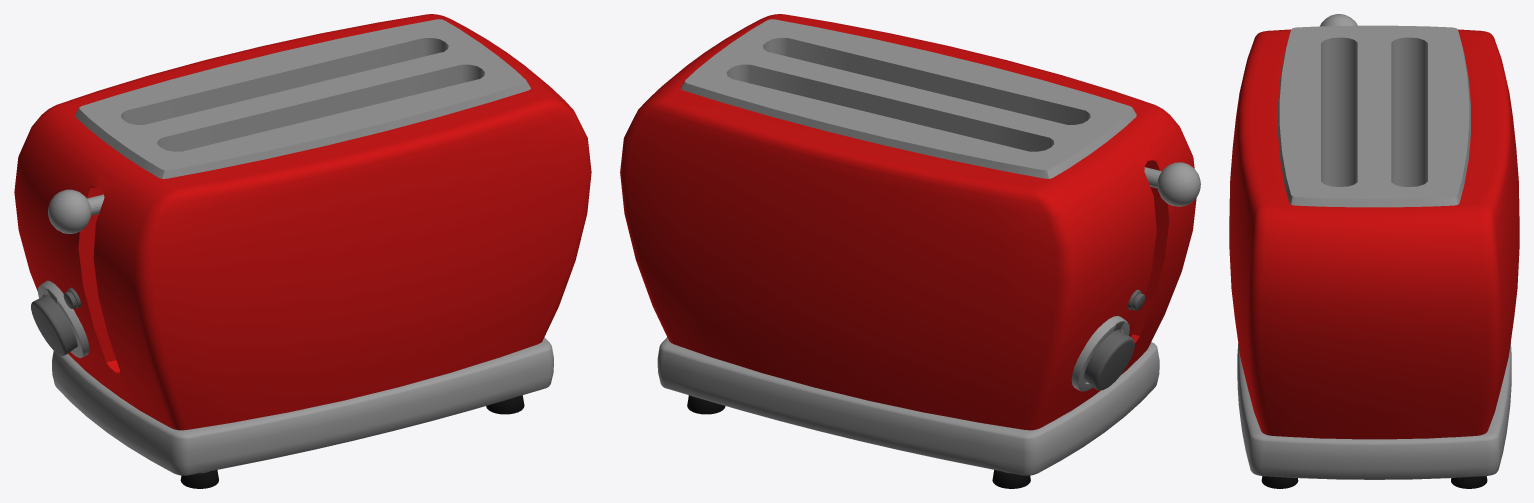
File: Toaster.FBX
3 views of the same model, side by side, from view 1: azimuth 30°, elevation 25°; view 2: azimuth 150°, elevation 25°; view 3: azimuth 270°, elevation 25° (orthographic). The views are drawn at different scales.
Visible parts, largest first — view 1: Box072; view 2: Box072; view 3: Box072.
Part boxes in pixels (x1,y1,x2,y2): Box072: (14, 14, 591, 488); Box072: (620, 14, 1200, 488); Box072: (1229, 14, 1519, 488).
Bounding box in the file's own units: 1905 × 1123 × 990.
